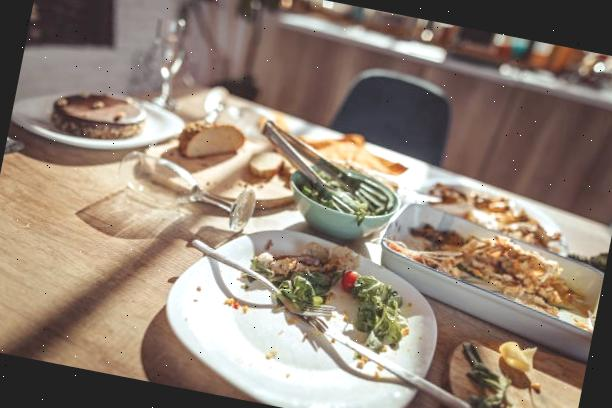Messy Table: (0, 48, 612, 408)
